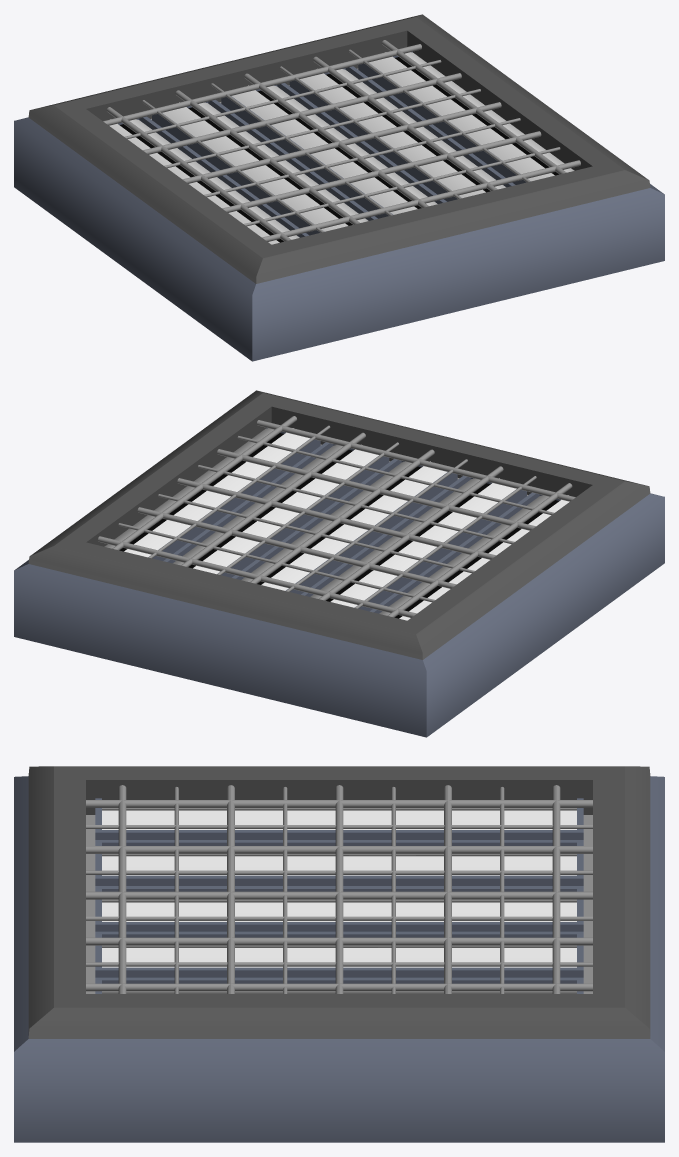
File: Vent.fbx
The picture shows the model from 3 angles, top to bottom: view 1: azimuth 30°, elevation 25°; view 2: azimuth 150°, elevation 25°; view 3: azimuth 270°, elevation 25°; orthographic projection. The views are drawn at different scales.
Visible parts, largest first — view 1: Cube; view 2: Cube; view 3: Cube.
Part boxes in pixels (box(x1,y1,x2,y2)): Cube: box(14, 14, 664, 361); Cube: box(14, 390, 664, 737); Cube: box(14, 766, 664, 1142).
Size of the model in its own units: 6000 by 1200 by 6000.
